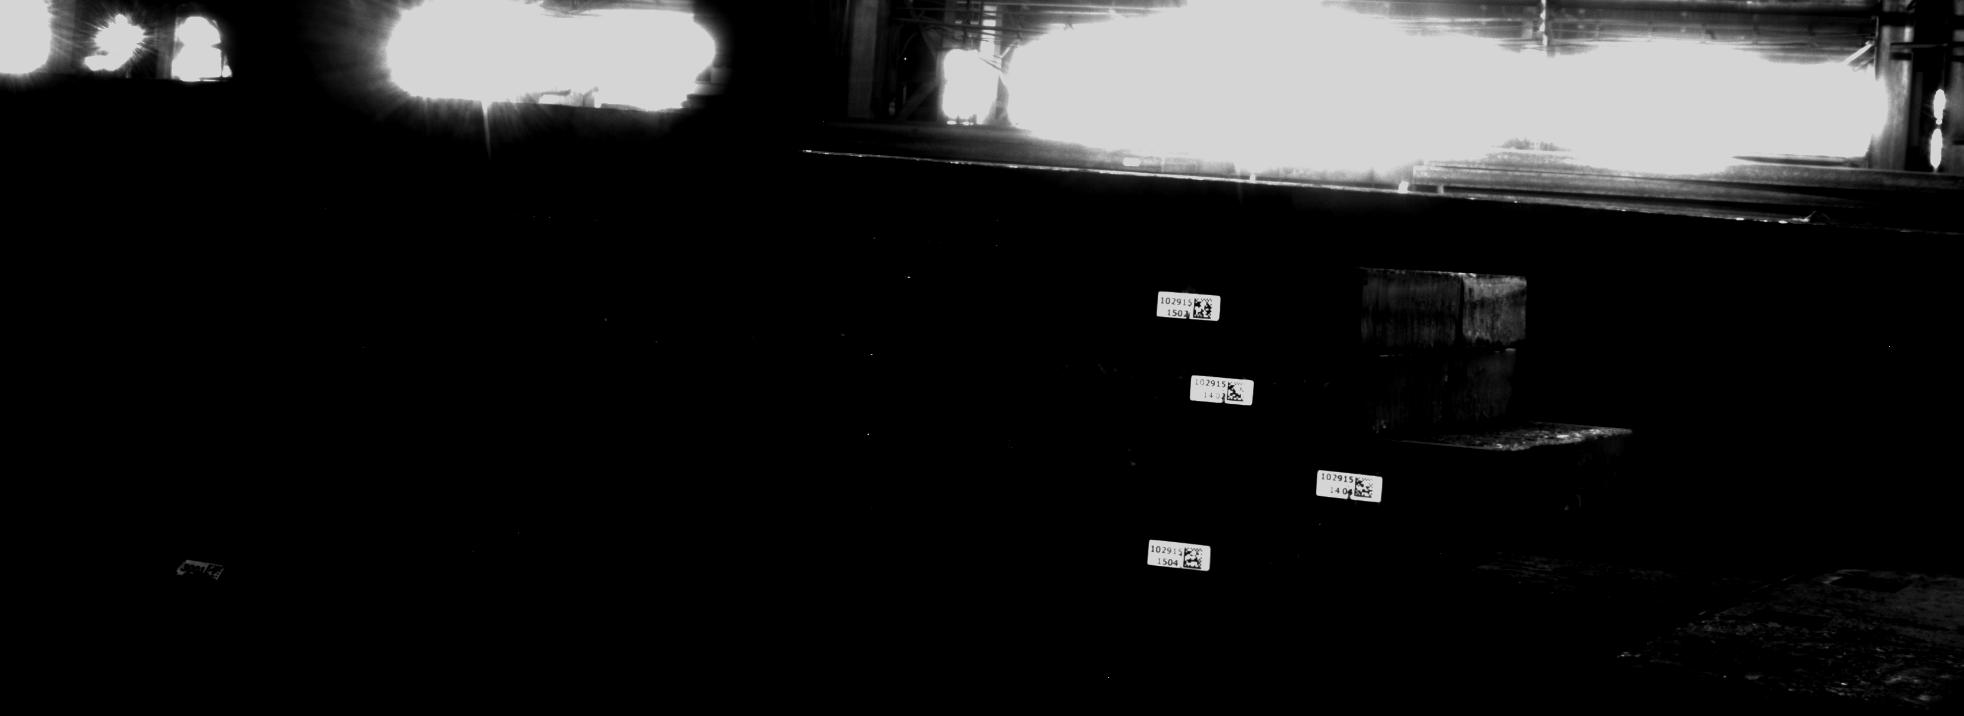data matrix: (1192, 298, 1215, 320), (1354, 477, 1377, 499), (1184, 547, 1205, 570), (1227, 382, 1248, 403)
